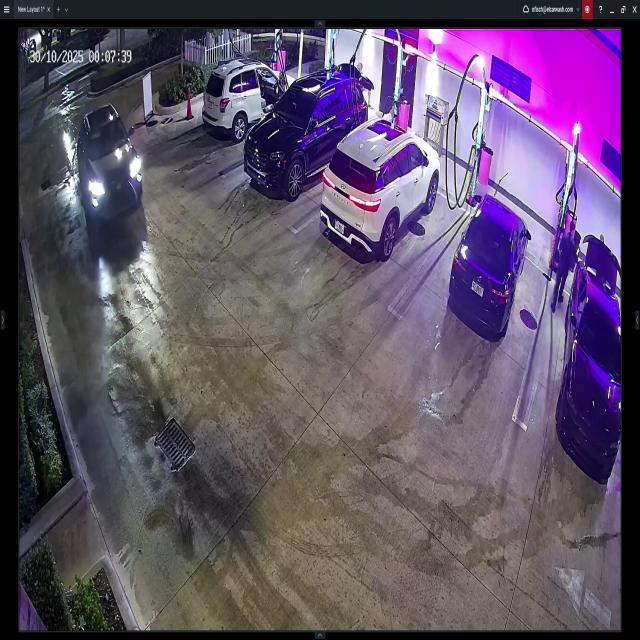Car: (320, 116, 440, 258), (563, 233, 627, 477), (244, 72, 364, 198), (451, 196, 530, 337), (77, 104, 142, 222), (206, 54, 296, 138)
